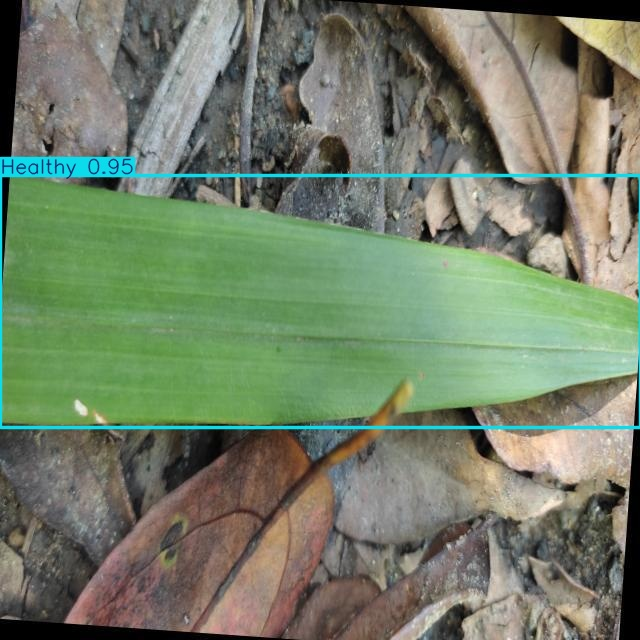Healthy: (0, 176, 640, 428)
